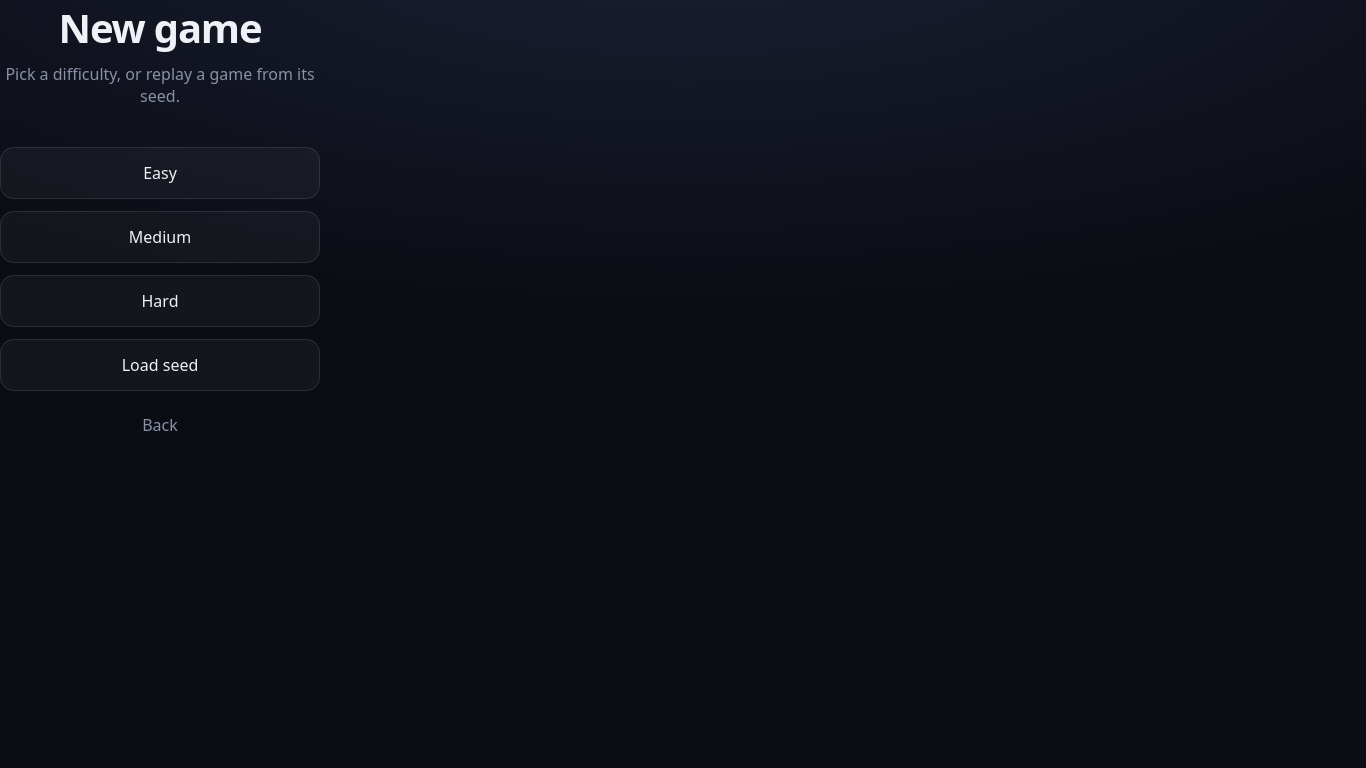
Scenario: NewGameMenu › Load seed › explains an invalid seed, until the input changes
This screenshot has width=1366, height=768.
Click the button "Load seed" at (160, 365), box [0, 339, 320, 391]
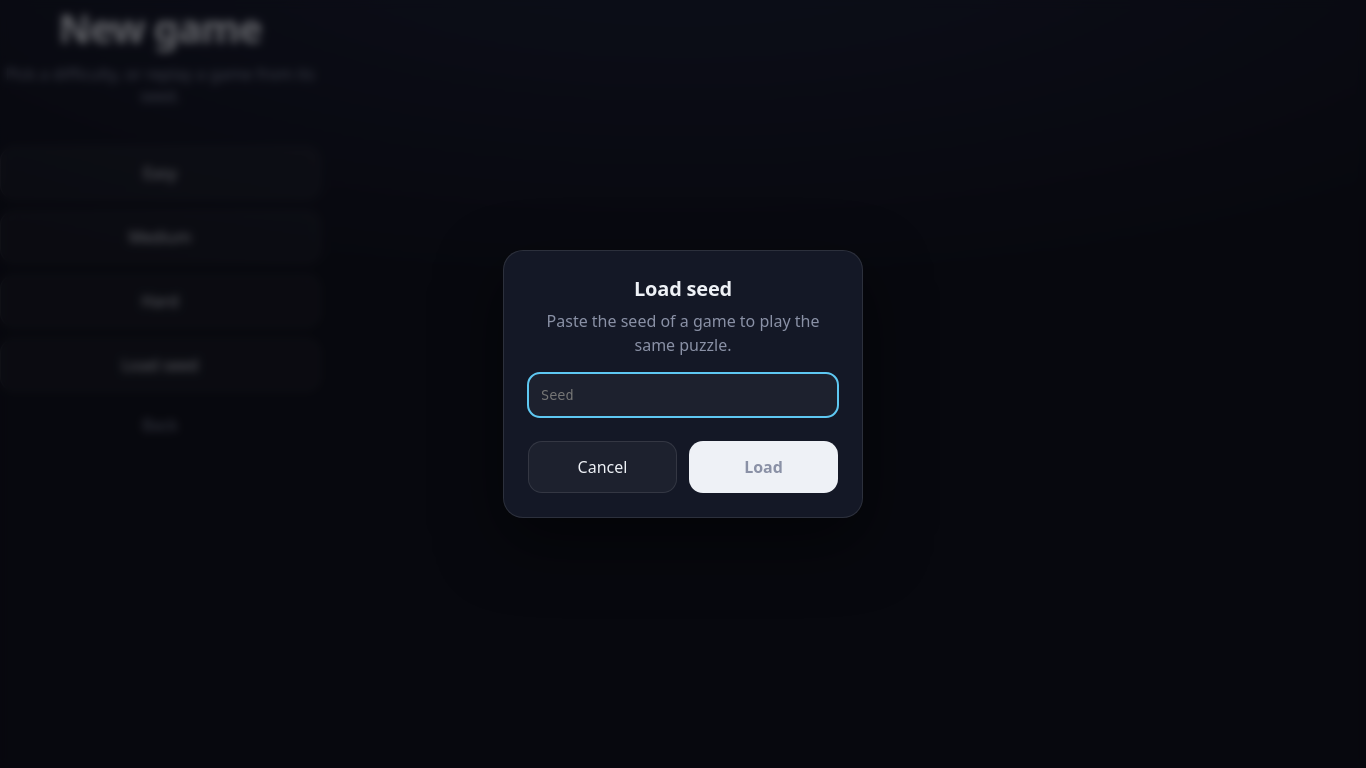
Type "not a seed" into the field labelled "Seed" at (683, 395), box [528, 373, 838, 417]
Then press Enter
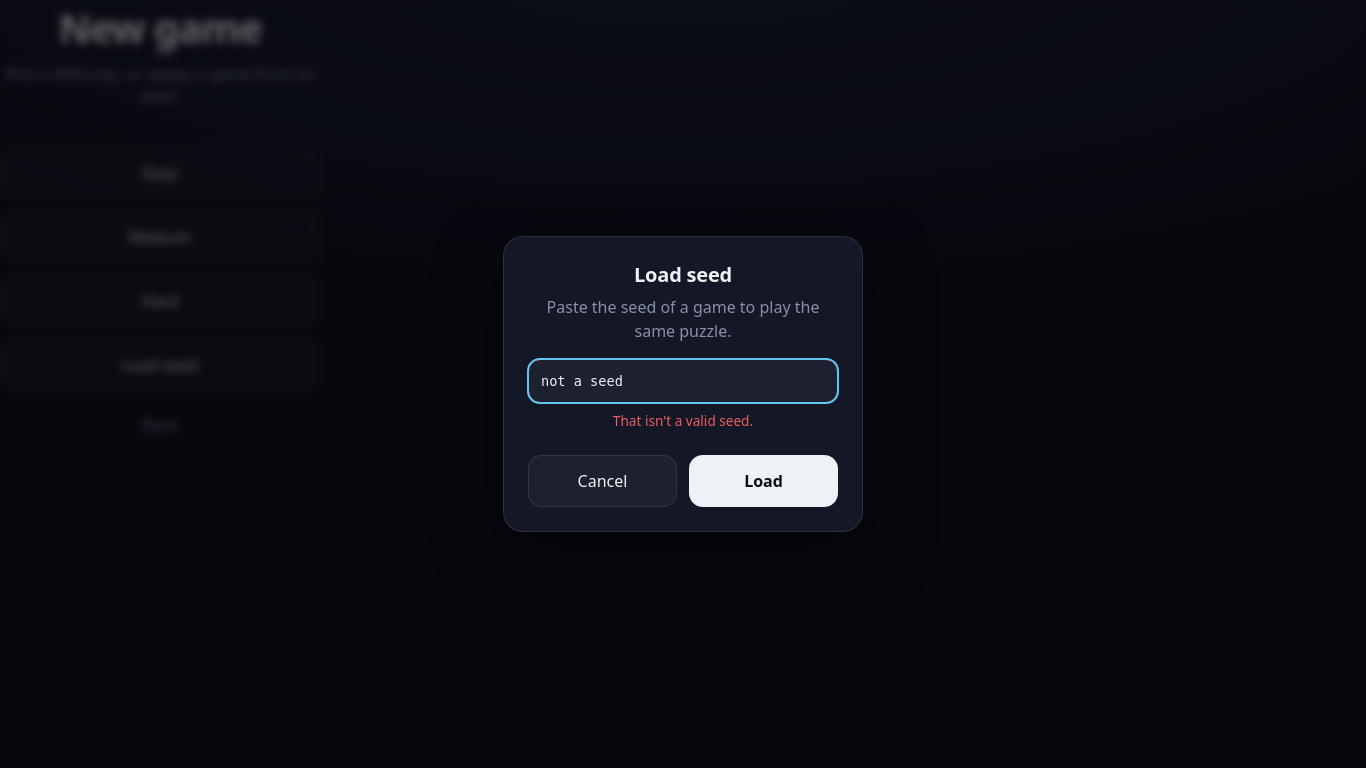
Expected: the message reads "That isn't a valid seed.", [613, 411, 753, 430]
Type "x" into the field named "Seed" at (683, 381), box [528, 359, 838, 403]
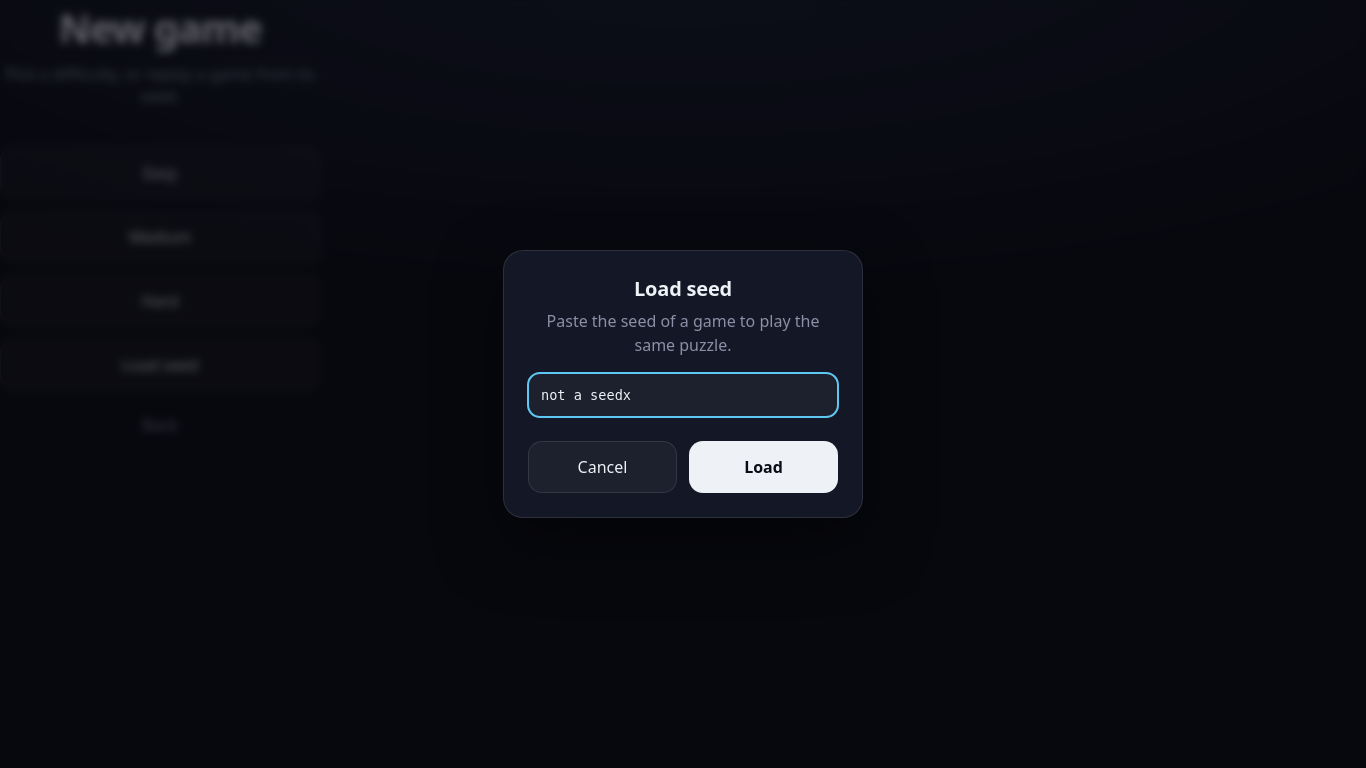
Expected: the message "That isn't a valid seed." is gone
